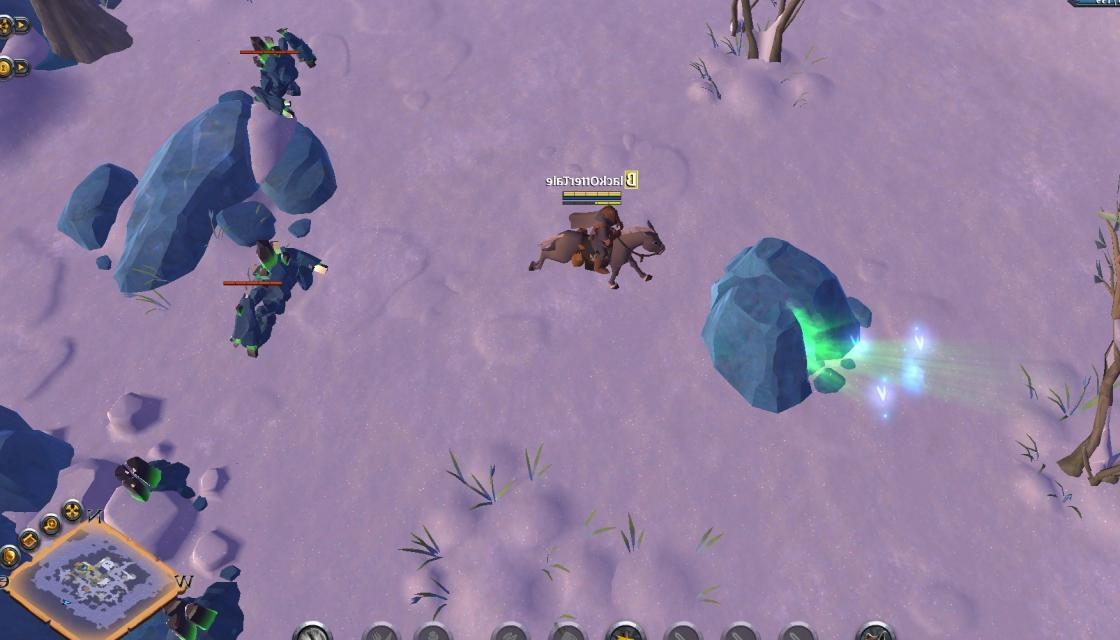tinore: (164, 577, 247, 640), (109, 450, 194, 510)
